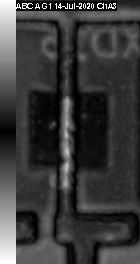led: (29, 90, 109, 167)
